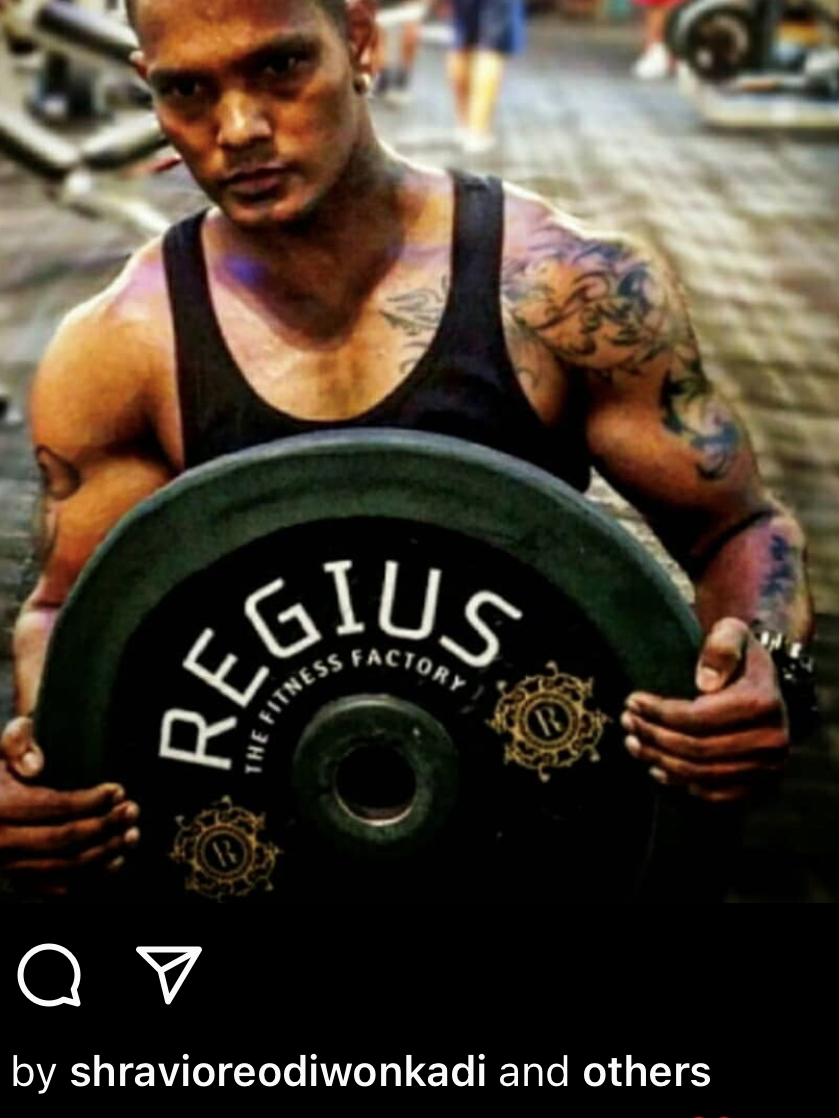weights: (33, 418, 732, 956)
